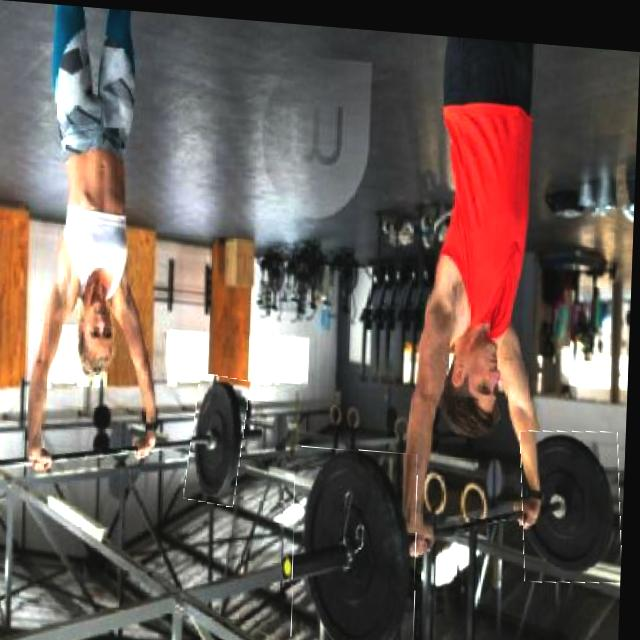barbell: (295, 441, 424, 640), (522, 418, 628, 577), (191, 371, 252, 504)
